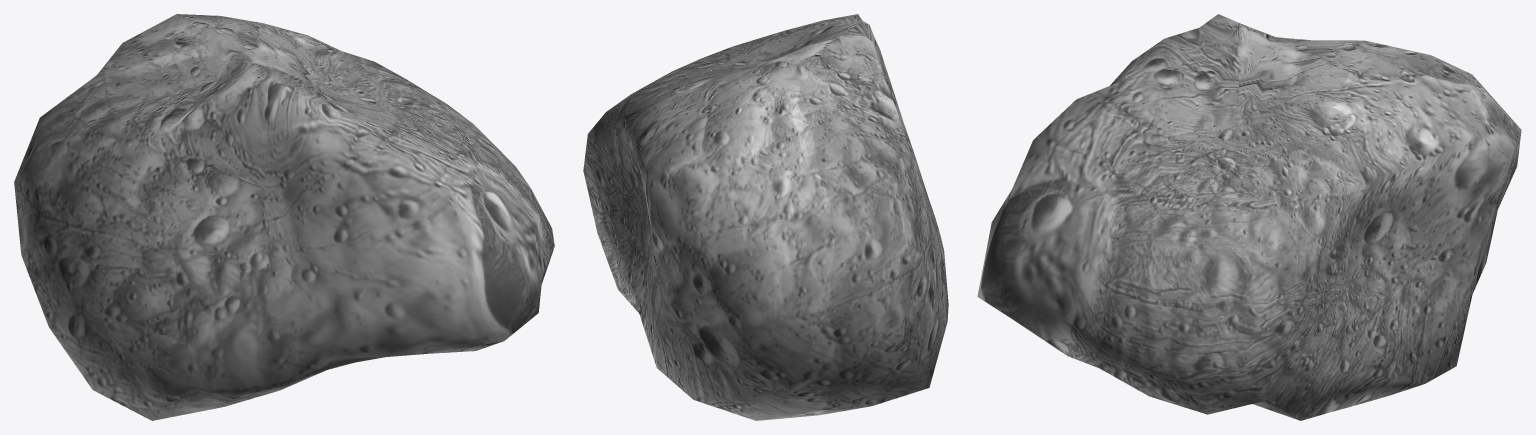
File: asteroid_2.FBX
3 views of the same model, side by side, from view 1: azimuth 30°, elevation 25°; view 2: azimuth 150°, elevation 25°; view 3: azimuth 270°, elevation 25° (orthographic). The views are drawn at different scales.
Parts seen in each view (by area): view 1: GeoSphere002; view 2: GeoSphere002; view 3: GeoSphere002.
Boxes of the visible parts, x1,y1,x2,y2 form: GeoSphere002: (14,14,554,420); GeoSphere002: (583,14,948,420); GeoSphere002: (977,14,1521,420).
Bounding box in the file's own units: 4.25 × 3.37 × 4.71.
Materials: 1 (1 with a texture image).
